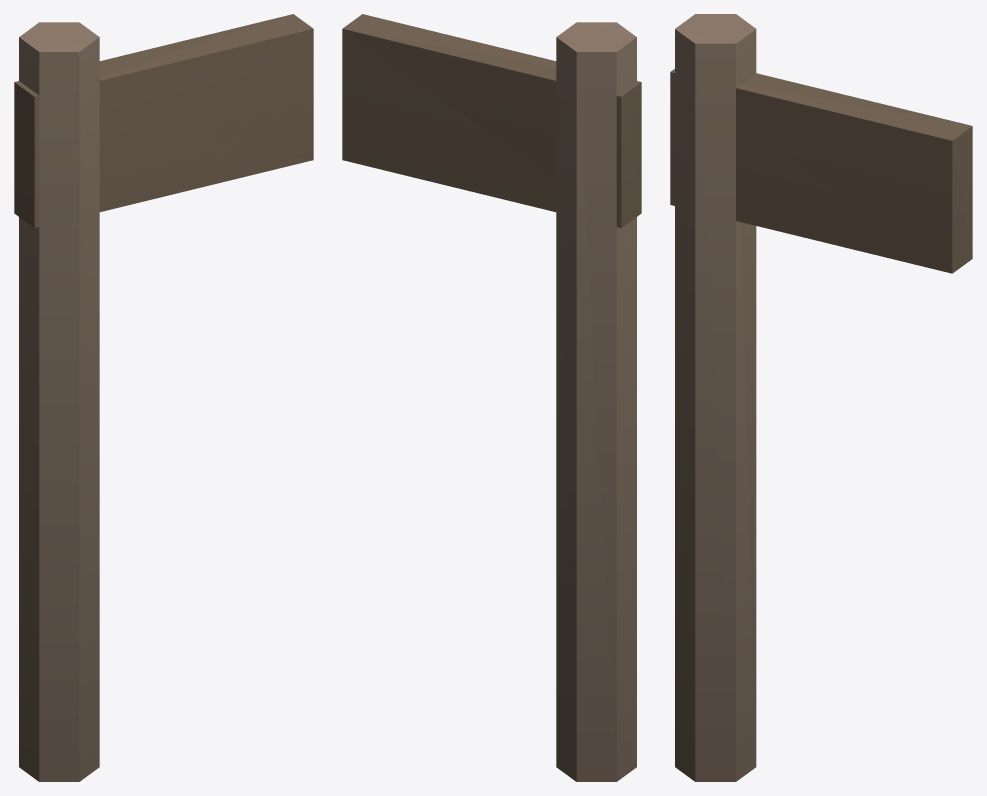
File: signpost.glb
3 renders of one model, left to right at view 1: azimuth 30°, elevation 25°; view 2: azimuth 150°, elevation 25°; view 3: azimuth 330°, elevation 25°, orthographic.
Visible parts, largest first — view 1: signpost; view 2: signpost; view 3: signpost.
Boxes of the visible parts, x1=… form: signpost: x1=14, y1=14, x2=313, y2=781; signpost: x1=342, y1=14, x2=641, y2=781; signpost: x1=670, y1=14, x2=972, y2=781.
Size of the model in its own units: 0.4 by 1 by 0.1.
